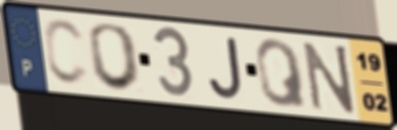3: (151, 23, 197, 103)
C: (41, 16, 92, 89)
J: (206, 34, 246, 102)
N: (300, 39, 358, 115)
O: (86, 21, 145, 94)
Q: (252, 37, 310, 110)
